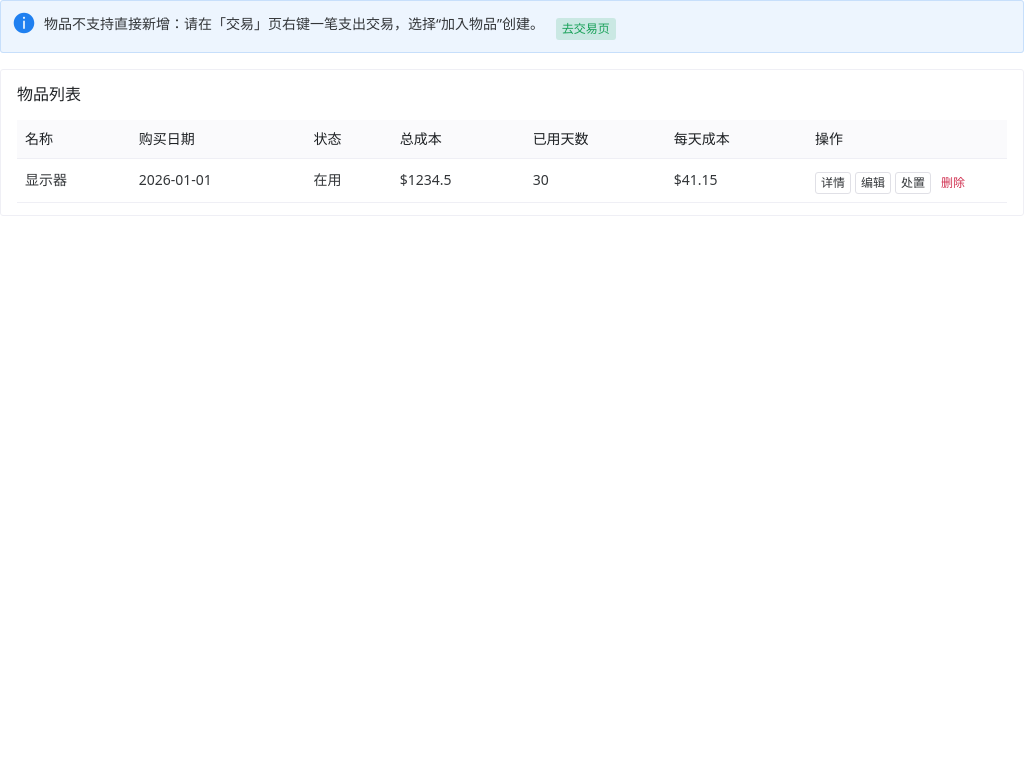
Test case: ItemsView 物品详情（issue #117） › 「本位币折算」行按账本本位币基准渲染符号与后缀，不取设备展示币种（#858 拆分遗留，issue #1664 范围外修复）
Click the button "详情". click: click(833, 183)
box: [815,172,851,194]
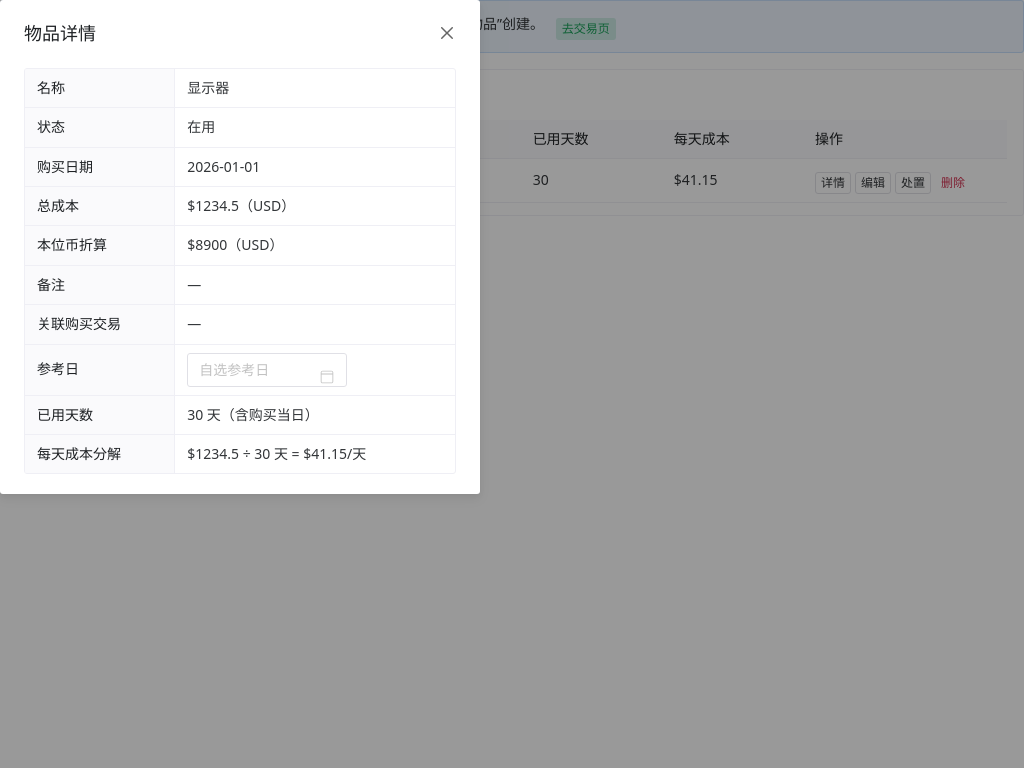
Check: the dialog with test id "item-detail-modal" shows "USD", box [187,196,295,215]
